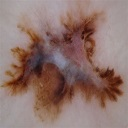Melanoma: (22, 23, 113, 97)
